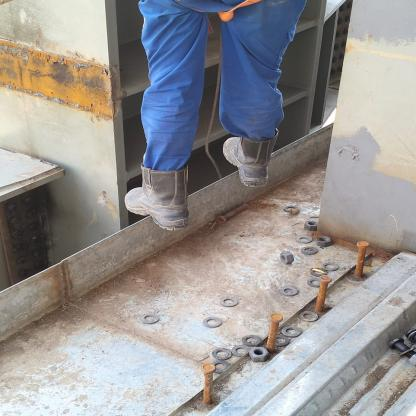bota: (120, 162, 200, 238), (218, 128, 274, 188)
